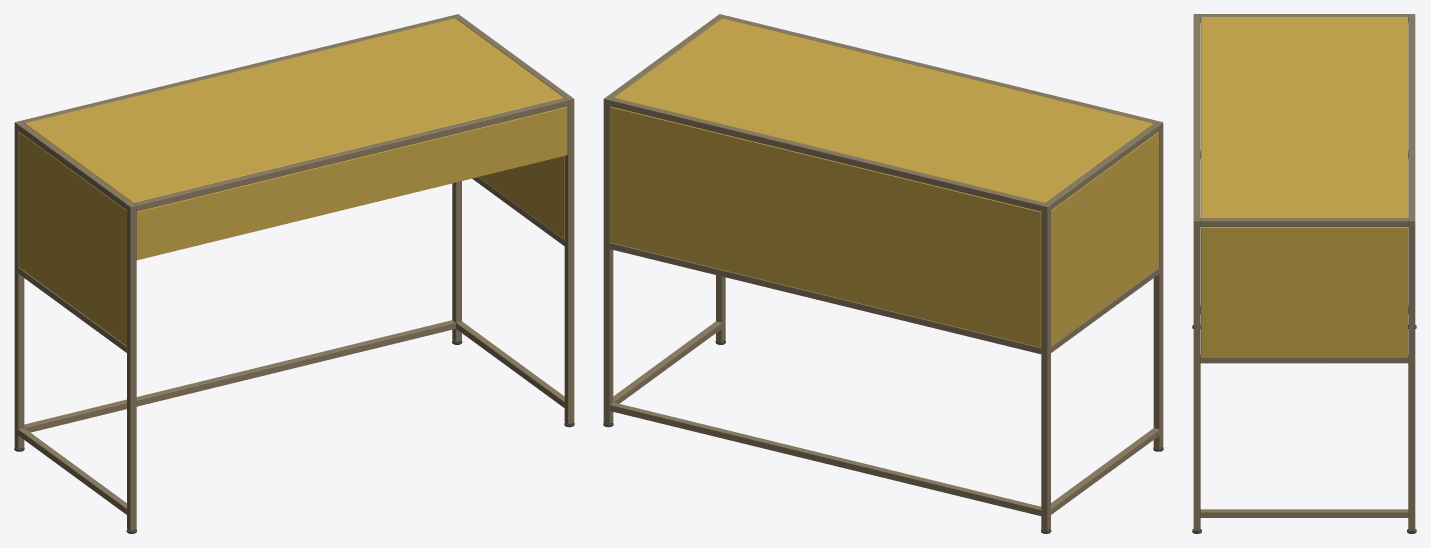
Rendered from designconnected-dita-desk-with-drawer-10712.optimized.glb.
The picture shows the model from 3 angles, left to right: view 1: azimuth 30°, elevation 25°; view 2: azimuth 150°, elevation 25°; view 3: azimuth 270°, elevation 25°; orthographic projection. The views are drawn at different scales.
Visible parts, largest first — view 1: Ligne_Roset_Dita_Console_drawer_mat1; view 2: Ligne_Roset_Dita_Console_drawer_mat1; view 3: Ligne_Roset_Dita_Console_drawer_mat1.
Part boxes in pixels (left/top/right/bottom): Ligne_Roset_Dita_Console_drawer_mat1: left=14, top=14, right=574, bottom=533; Ligne_Roset_Dita_Console_drawer_mat1: left=603, top=14, right=1163, bottom=533; Ligne_Roset_Dita_Console_drawer_mat1: left=1192, top=14, right=1416, bottom=533.
Size of the model in its own units: 1.08 by 0.756 by 0.4919.
